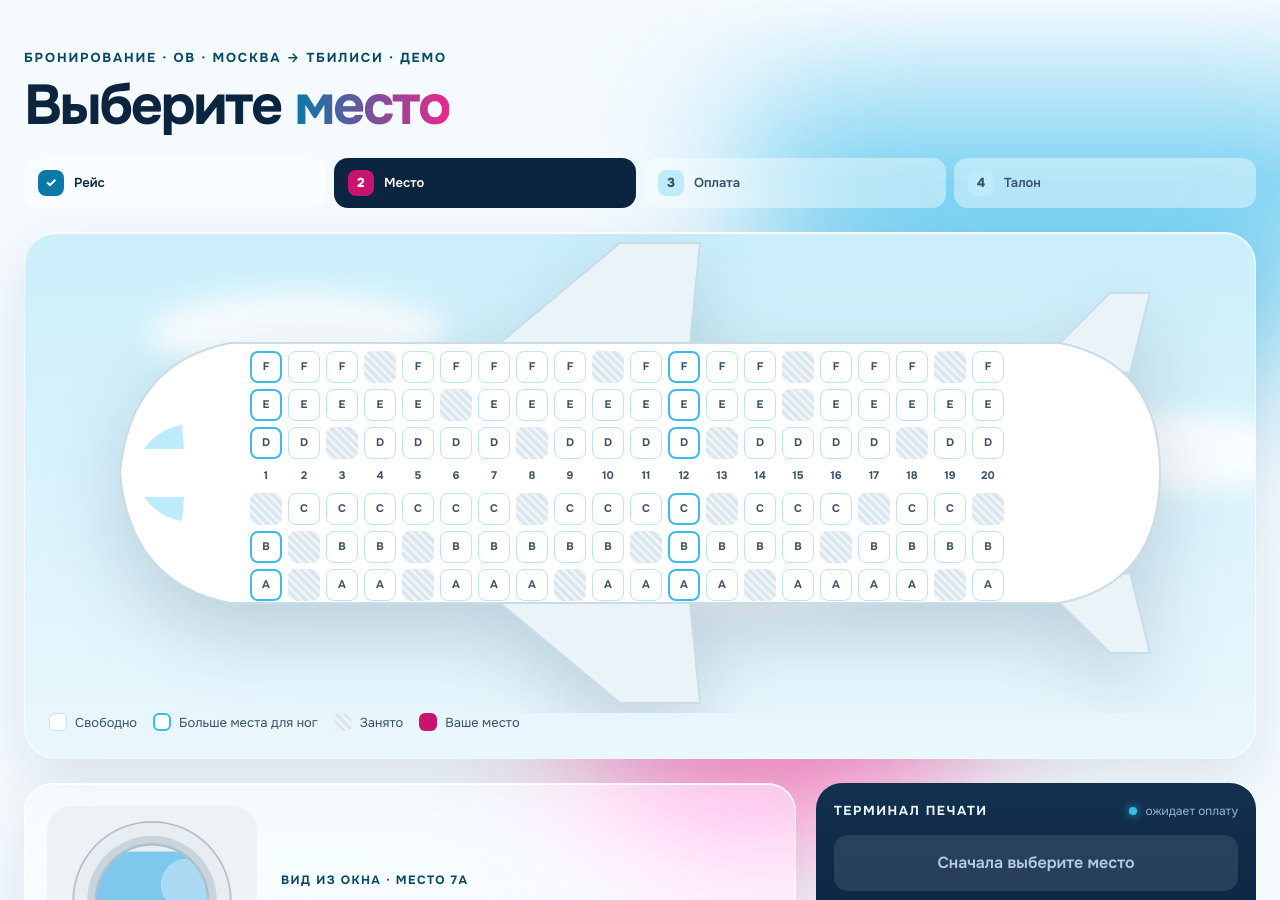
Test: Booking › prints the pass, puts the stub into the wallet and stamps the passport
Click the 2nd button "A" at [342, 584], box [326,568,358,600]
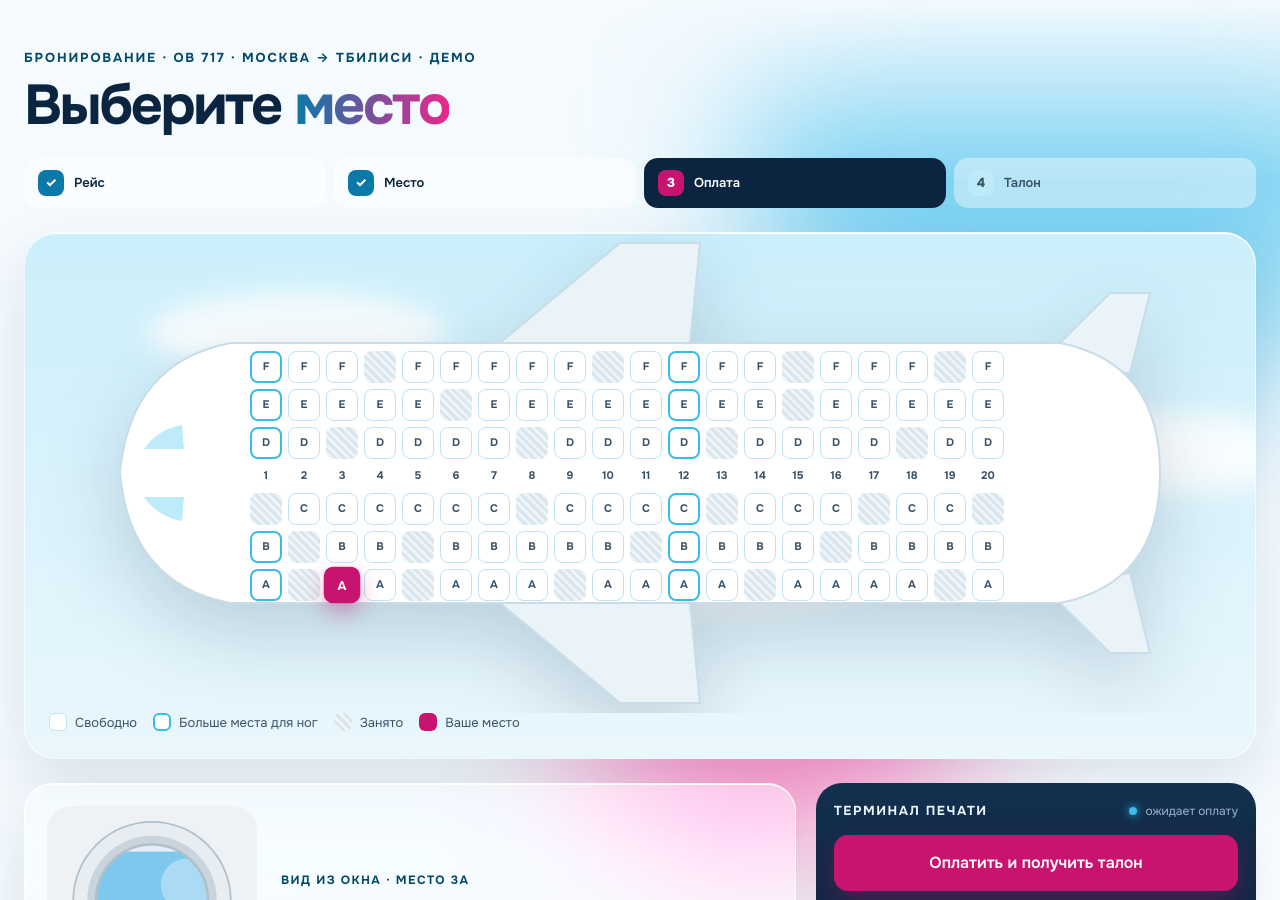
Click the button "Оплатить и получить талон" at [1036, 862], box [834,834,1238,890]
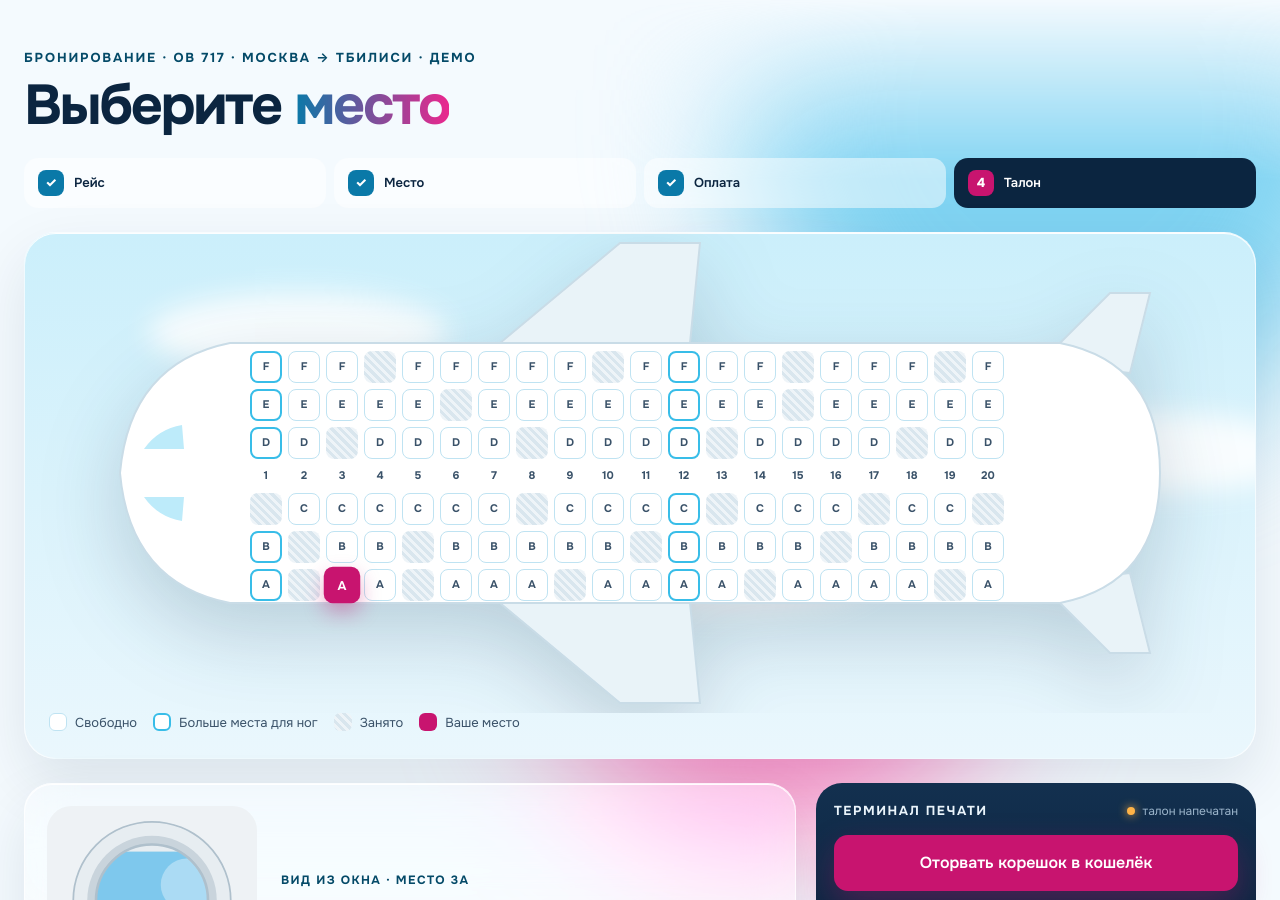
expect the text "талон напечатан" is shown: met, box [1127,802,1238,820]
Click the button "Оторвать корешок в кошелёк" at [1036, 862], box [834,834,1238,890]
(page scrolled)
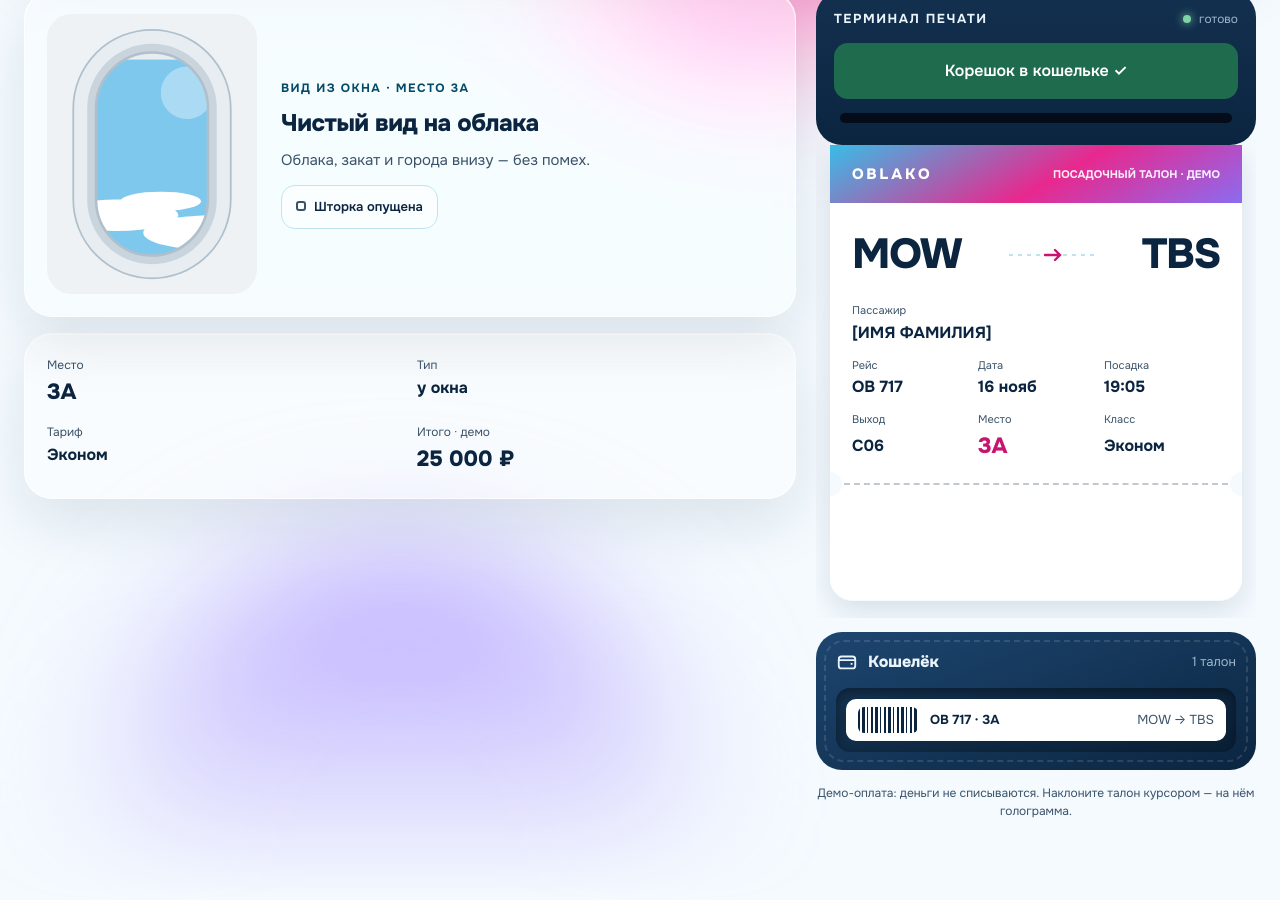
expect the text "MOW → TBS" is shown: met, box [1137,711,1214,728]
expect the button "Корешок в кошельке ✓" is shown: met, box [834,42,1238,98]
expect the text "1 талон" is shown: met, box [1192,652,1236,672]
